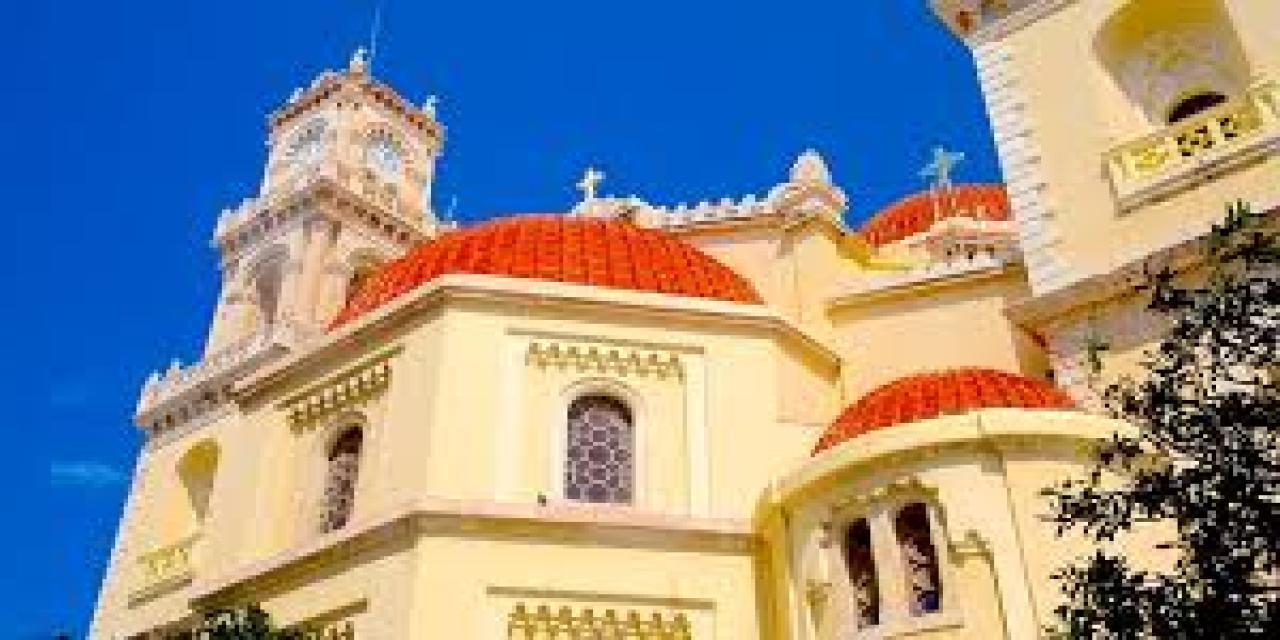Agios Minas: (83, 1, 1280, 640)
